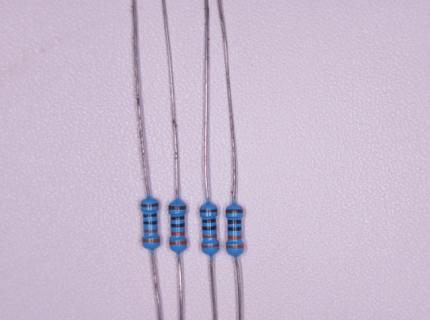Black band: (171, 223, 185, 228), (143, 221, 157, 225), (171, 216, 185, 220), (202, 226, 216, 230), (143, 214, 156, 218), (203, 219, 216, 223), (228, 227, 241, 231), (228, 220, 241, 224)
Brown band: (226, 209, 243, 213), (169, 206, 186, 210), (200, 210, 217, 213), (142, 204, 158, 207)
Orange band: (227, 245, 244, 249), (170, 241, 186, 245), (202, 244, 218, 248), (144, 229, 158, 233), (203, 234, 217, 238), (228, 236, 242, 240), (143, 239, 160, 242), (171, 232, 185, 235)
